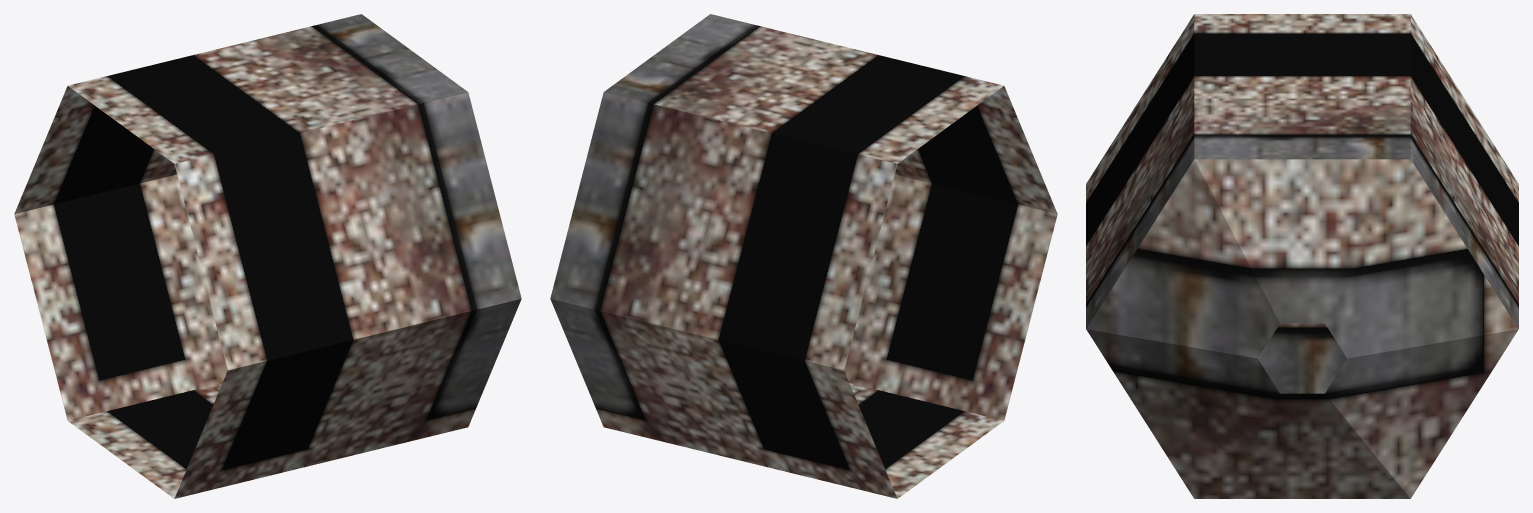
File: Urban_PipeEndpieace_Model.fbx
3 renders of one model, left to right at view 1: azimuth 30°, elevation 25°; view 2: azimuth 150°, elevation 25°; view 3: azimuth 270°, elevation 25°, orthographic.
Parts seen in each view (by area): view 1: Urban_PipeEndpieace_Mesh; view 2: Urban_PipeEndpieace_Mesh; view 3: Urban_PipeEndpieace_Mesh.
Boxes of the visible parts, left/top/right/bottom form: Urban_PipeEndpieace_Mesh: left=14, top=14, right=521, bottom=498; Urban_PipeEndpieace_Mesh: left=550, top=14, right=1057, bottom=498; Urban_PipeEndpieace_Mesh: left=1086, top=14, right=1518, bottom=498.
Size of the model in its own units: 0.2384 by 0.216 by 0.2494.
